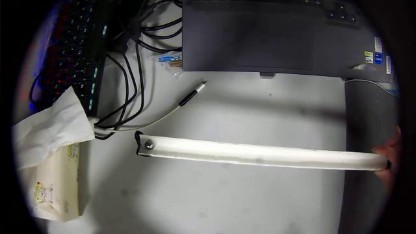gangzhu: (143, 137, 155, 151)
